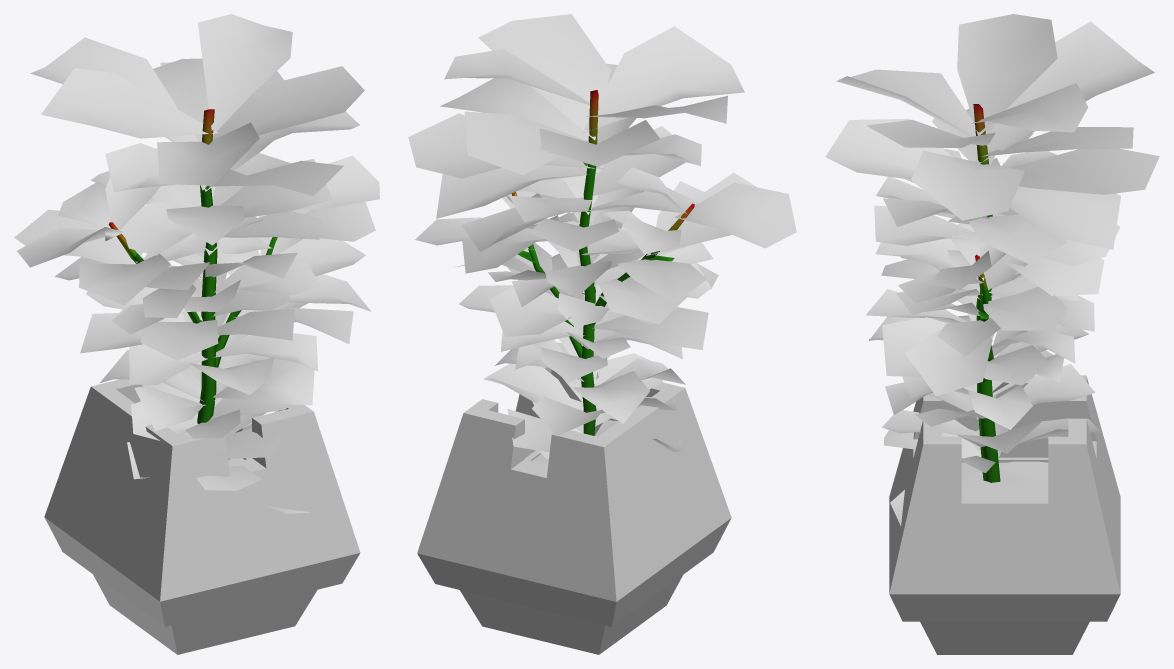
Rendered from Plants_f_bonsai_02.FBX.
The picture shows the model from 3 angles, left to right: view 1: azimuth 30°, elevation 25°; view 2: azimuth 150°, elevation 25°; view 3: azimuth 270°, elevation 25°; orthographic projection.
Parts seen in each view (by area): view 1: Plants_f_bonsai_02_02_LOD0, Plants_f_bonsai_02_01_LOD0; view 2: Plants_f_bonsai_02_02_LOD0, Plants_f_bonsai_02_01_LOD0; view 3: Plants_f_bonsai_02_02_LOD0, Plants_f_bonsai_02_01_LOD0.
Part boxes in pixels (left/top/right/bottom): Plants_f_bonsai_02_02_LOD0: left=14, top=14, right=379, bottom=513; Plants_f_bonsai_02_01_LOD0: left=44, top=379, right=360, bottom=654; Plants_f_bonsai_02_02_LOD0: left=408, top=14, right=796, bottom=458; Plants_f_bonsai_02_01_LOD0: left=417, top=366, right=731, bottom=654; Plants_f_bonsai_02_02_LOD0: left=825, top=14, right=1159, bottom=525; Plants_f_bonsai_02_01_LOD0: left=889, top=375, right=1120, bottom=654.
Size of what is drawn, in the model's own units: 87.55 by 133 by 72.06.
